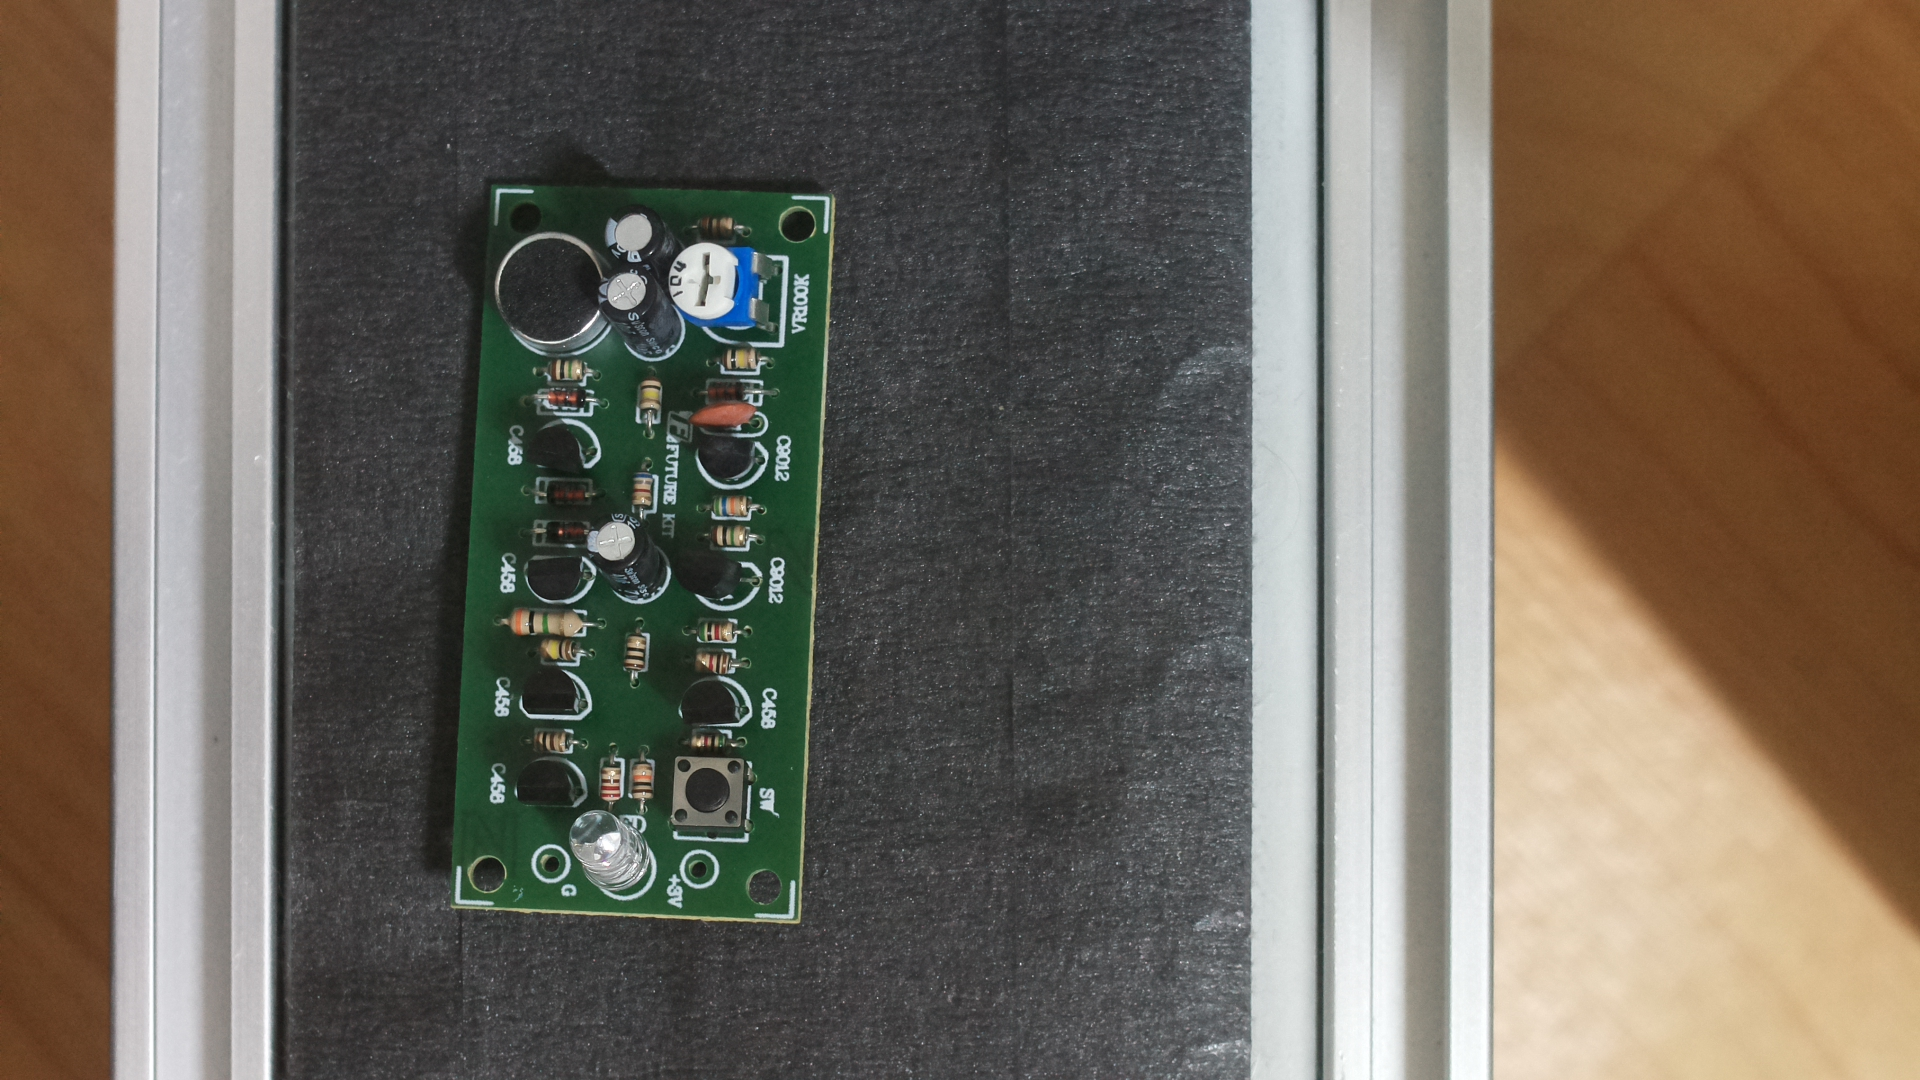A_Normal: (446, 170, 849, 945)
